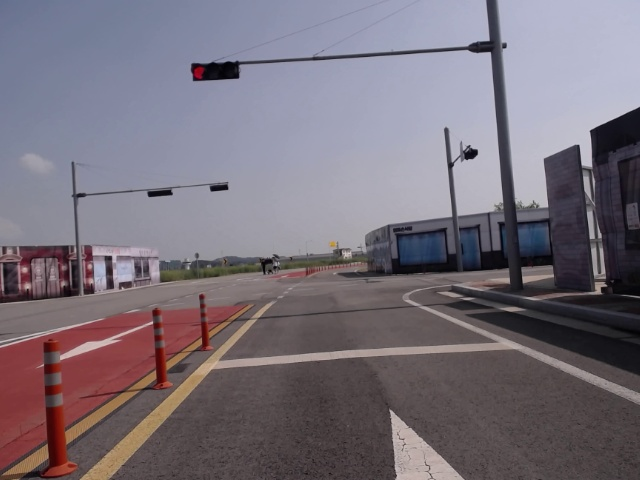red_3: (191, 64, 239, 80)
